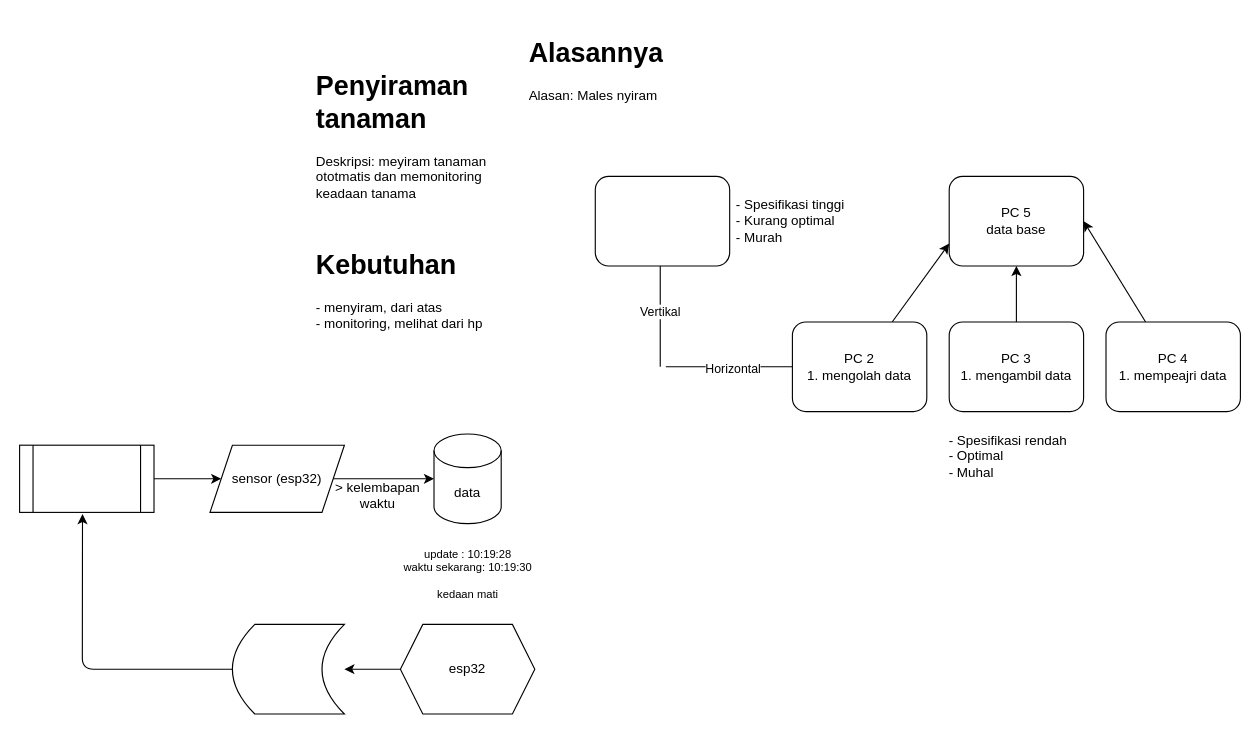
This 1260x734 diagram has some shape labels left out. The centre of each missing label's shape, as x and y in pixels:
"aktuator" goes at pixel 287 668.
"PC 1 1. mengolah data 2. mengambil data 3. mempeajri data" goes at pixel 662 220.
"tanaman" goes at pixel 86 478.
